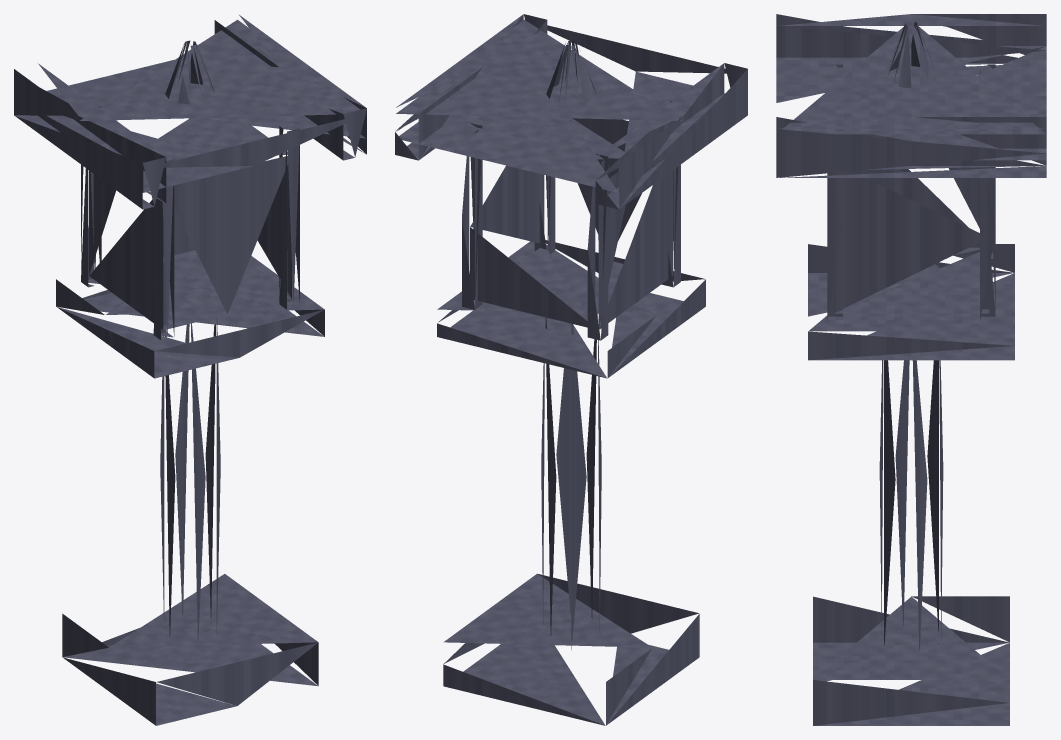
The model's file is KGB_Dojo_SpiritLantern_v16_lod1.glb.
The picture shows the model from 3 angles, left to right: view 1: azimuth 30°, elevation 25°; view 2: azimuth 150°, elevation 25°; view 3: azimuth 270°, elevation 25°; orthographic projection. The views are drawn at different scales.
Parts seen in each view (by area): view 1: world; view 2: world; view 3: world.
Part boxes in pixels (bbox=[...]): world: bbox=[14, 15, 366, 725]; world: bbox=[395, 14, 747, 725]; world: bbox=[776, 14, 1046, 725].
Size of the model in its own units: 1.71 by 4.58 by 1.7.
Materials: 1 (1 with a texture image).
